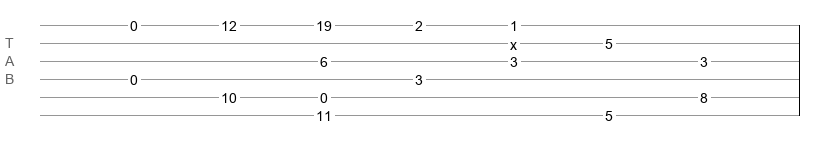0: (130, 18, 138, 28), (130, 72, 138, 82), (320, 90, 328, 100)
1: (510, 18, 518, 28)
10: (221, 90, 237, 100)
11: (316, 108, 332, 118)
12: (221, 18, 237, 28)
19: (316, 18, 332, 28)
2: (415, 18, 423, 28)
3: (415, 72, 423, 82), (510, 54, 518, 64), (700, 54, 708, 64)
5: (605, 108, 613, 118), (605, 36, 613, 46)
6: (320, 54, 328, 64)
8: (700, 90, 708, 100)
x: (510, 37, 517, 45)
